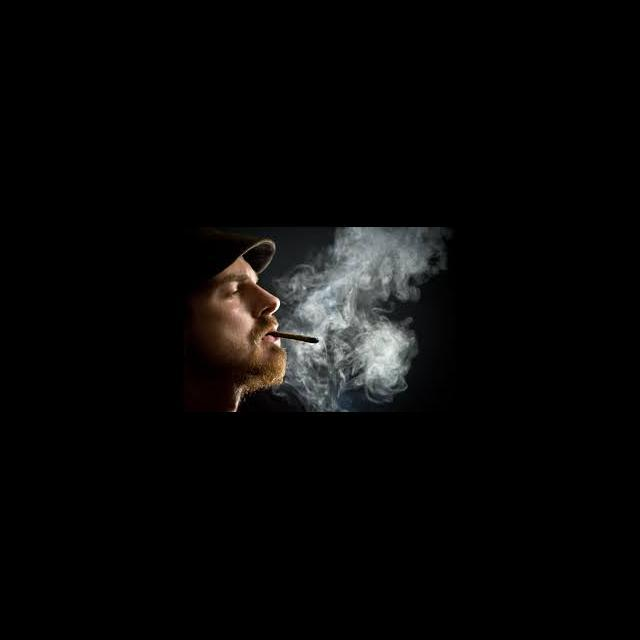Smoke: (270, 229, 448, 407)
